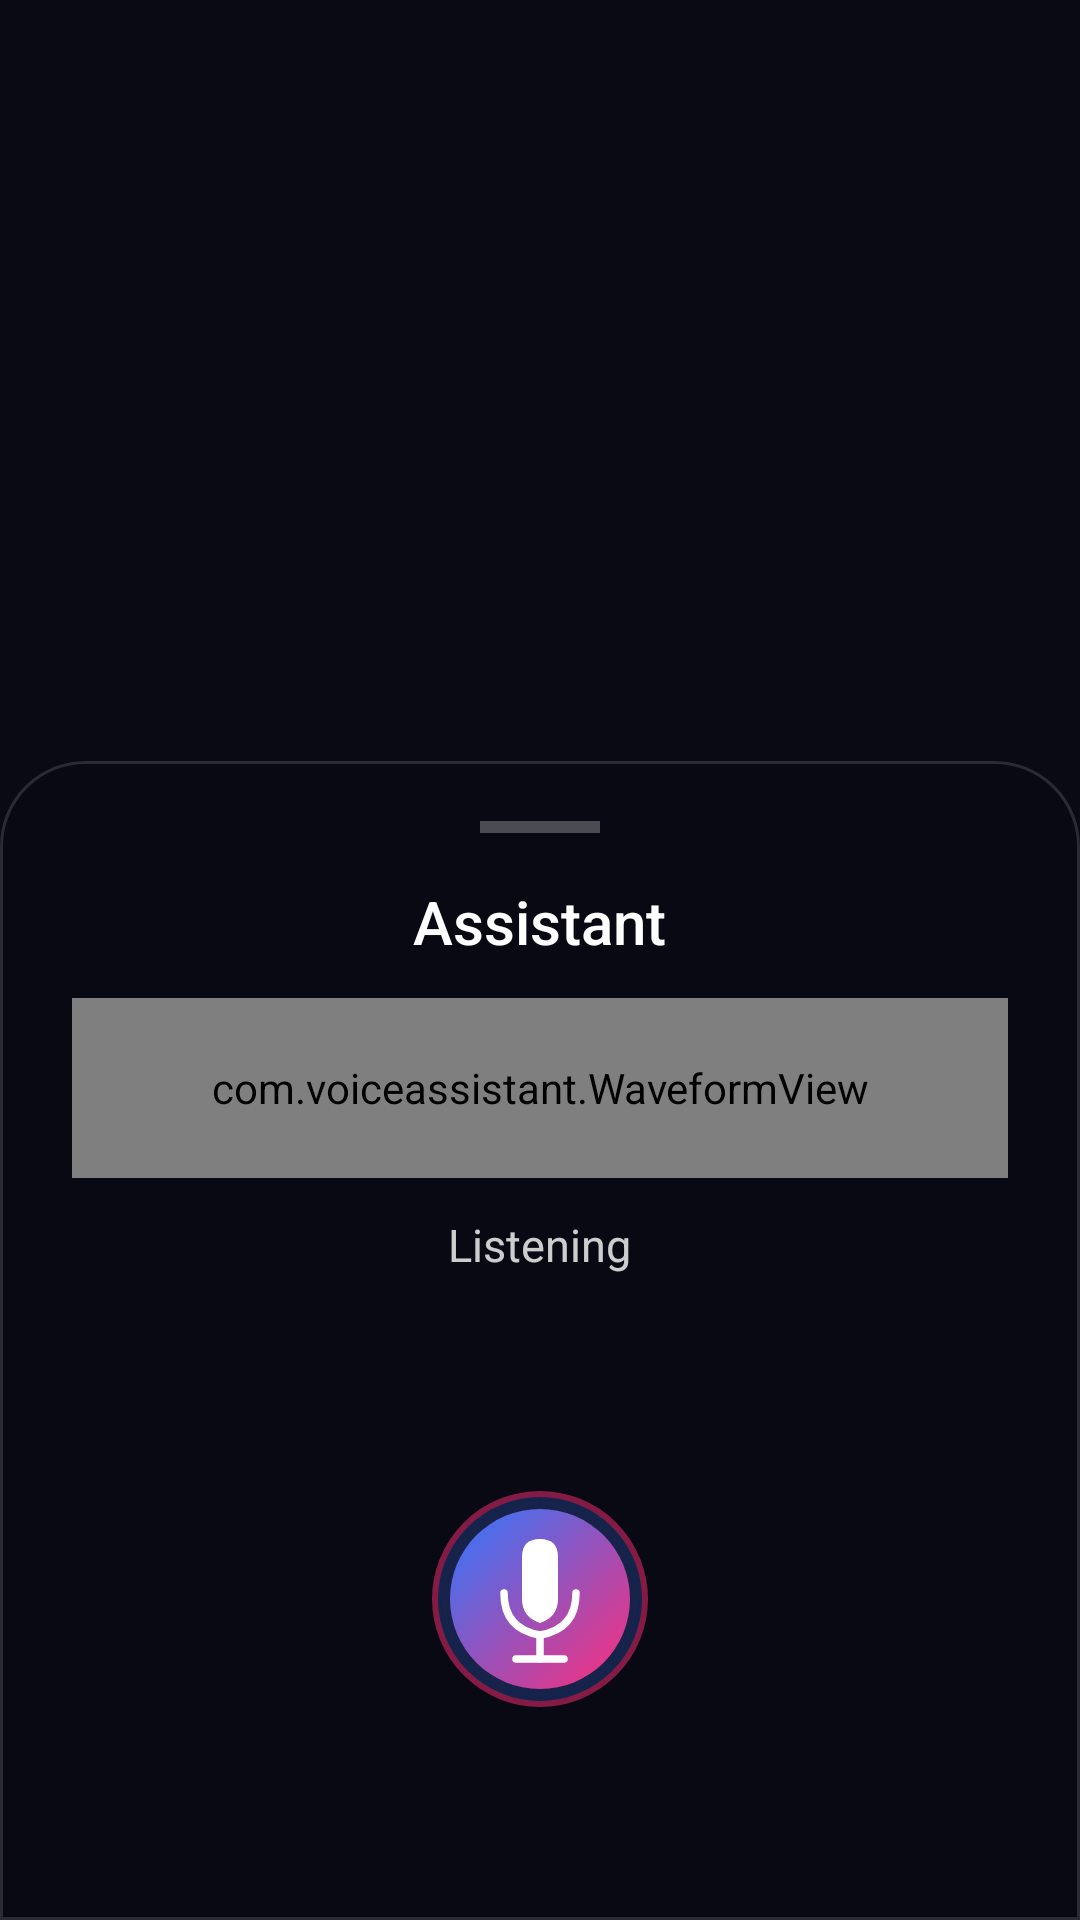

Icon click points for this 1080px×1920px phone screenshot, format [x,y]:
mic: [540,1599]
